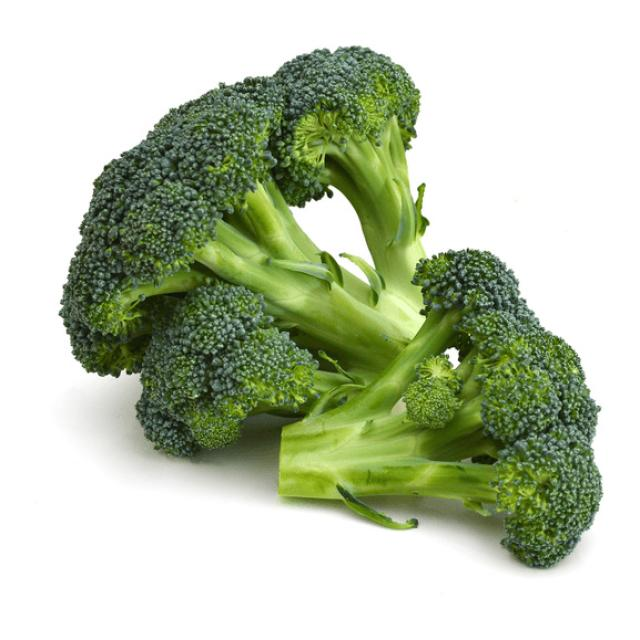Broccoli: (44, 48, 420, 374), (289, 247, 601, 563), (133, 280, 327, 461)
